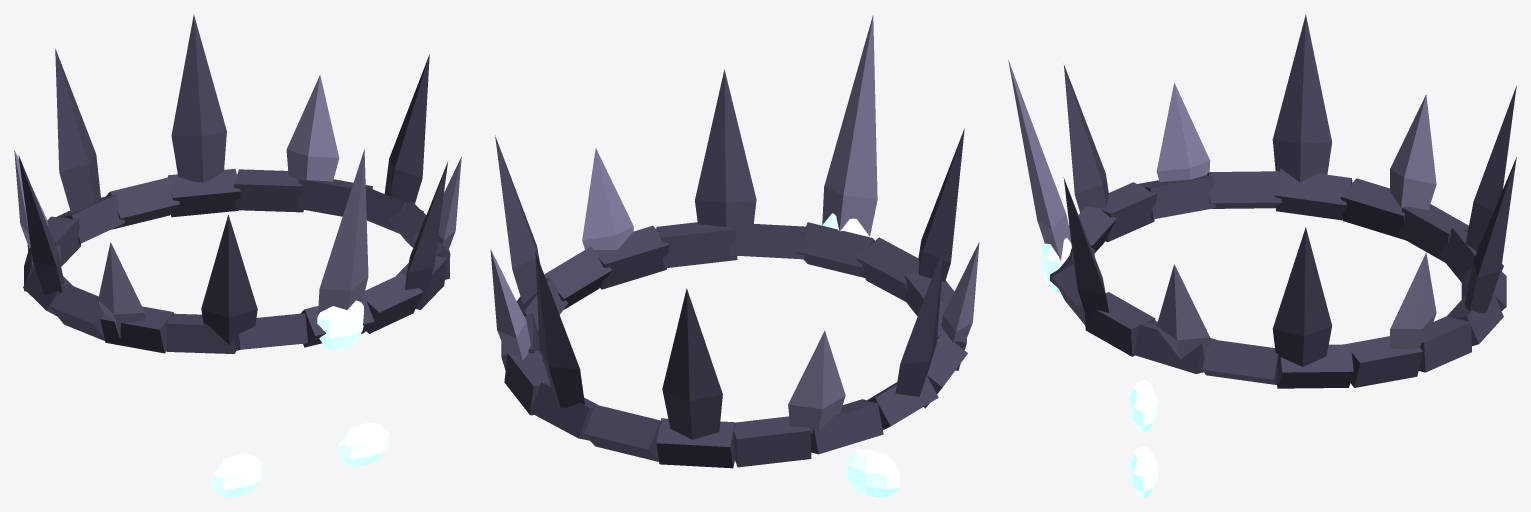
The model's file is glassbound_crown.glb.
3 renders of one model, left to right at view 1: azimuth 30°, elevation 25°; view 2: azimuth 150°, elevation 25°; view 3: azimuth 270°, elevation 25°, orthographic. The views are drawn at different scales.
Parts seen in each view (by area): view 1: glassbound_crown; view 2: glassbound_crown; view 3: glassbound_crown.
Part boxes in pixels (left/top/right/bottom): glassbound_crown: left=14, top=14, right=461, bottom=497; glassbound_crown: left=490, top=15, right=979, bottom=497; glassbound_crown: left=1008, top=14, right=1516, bottom=497.
Size of the model in its own units: 1.01 by 0.8901 by 1.02.
